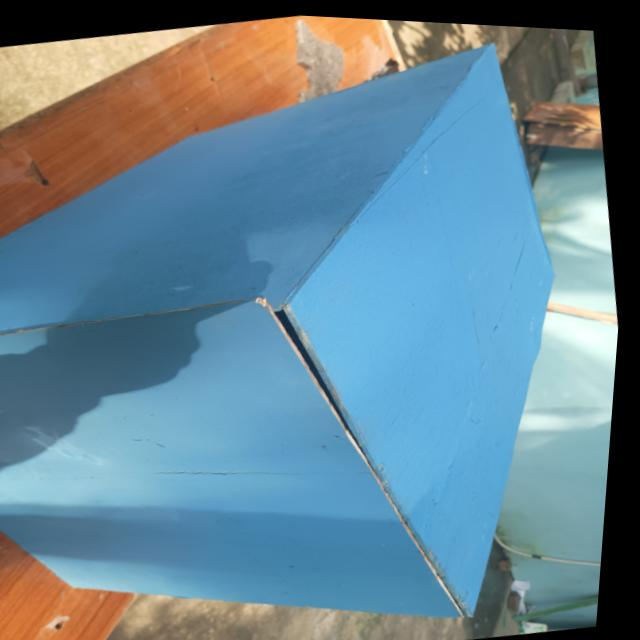blue_box: (0, 16, 637, 640)
